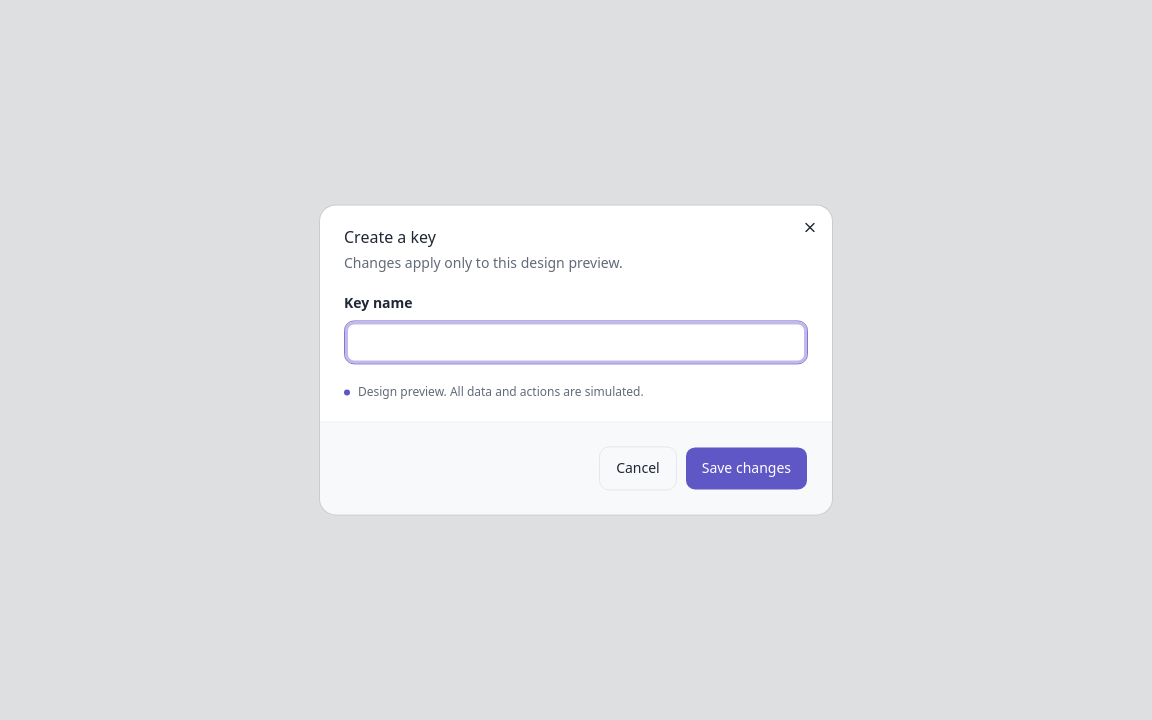
Demo form behavior › rejects an empty name and focuses the invalid field
Click the button "Save changes" at (746, 469), box x1=685 y1=447 x2=808 y2=491
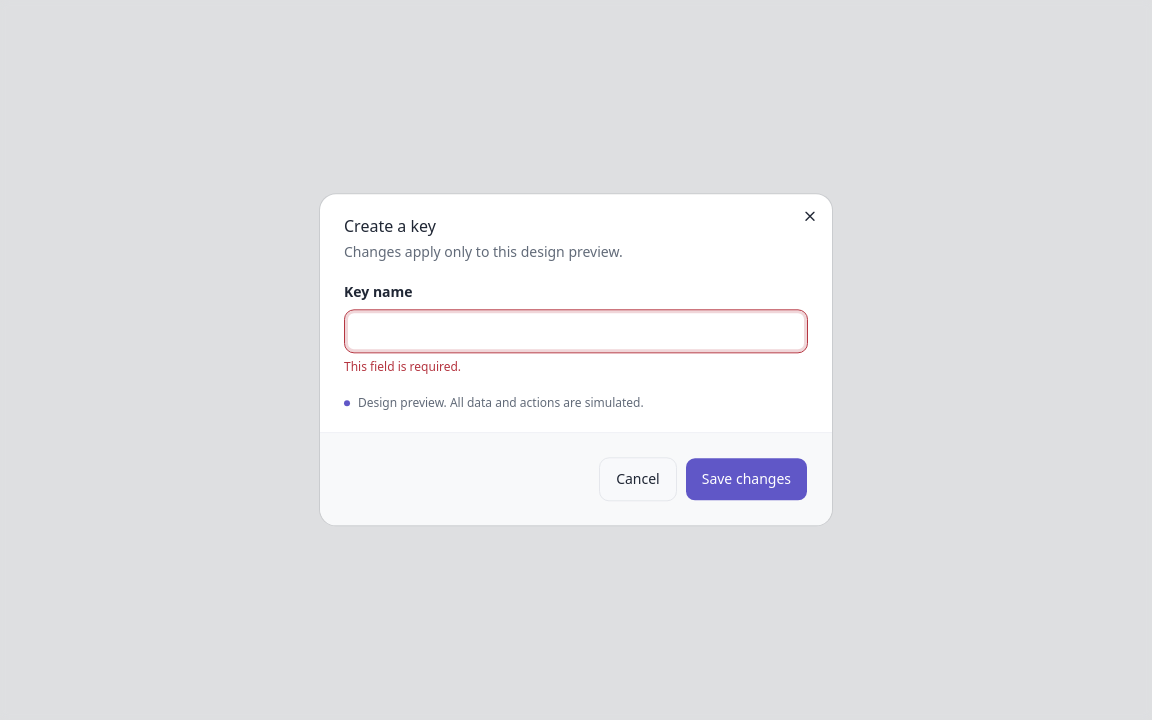
Expected: the message reads "This field is required.", x1=344 y1=358 x2=461 y2=375
